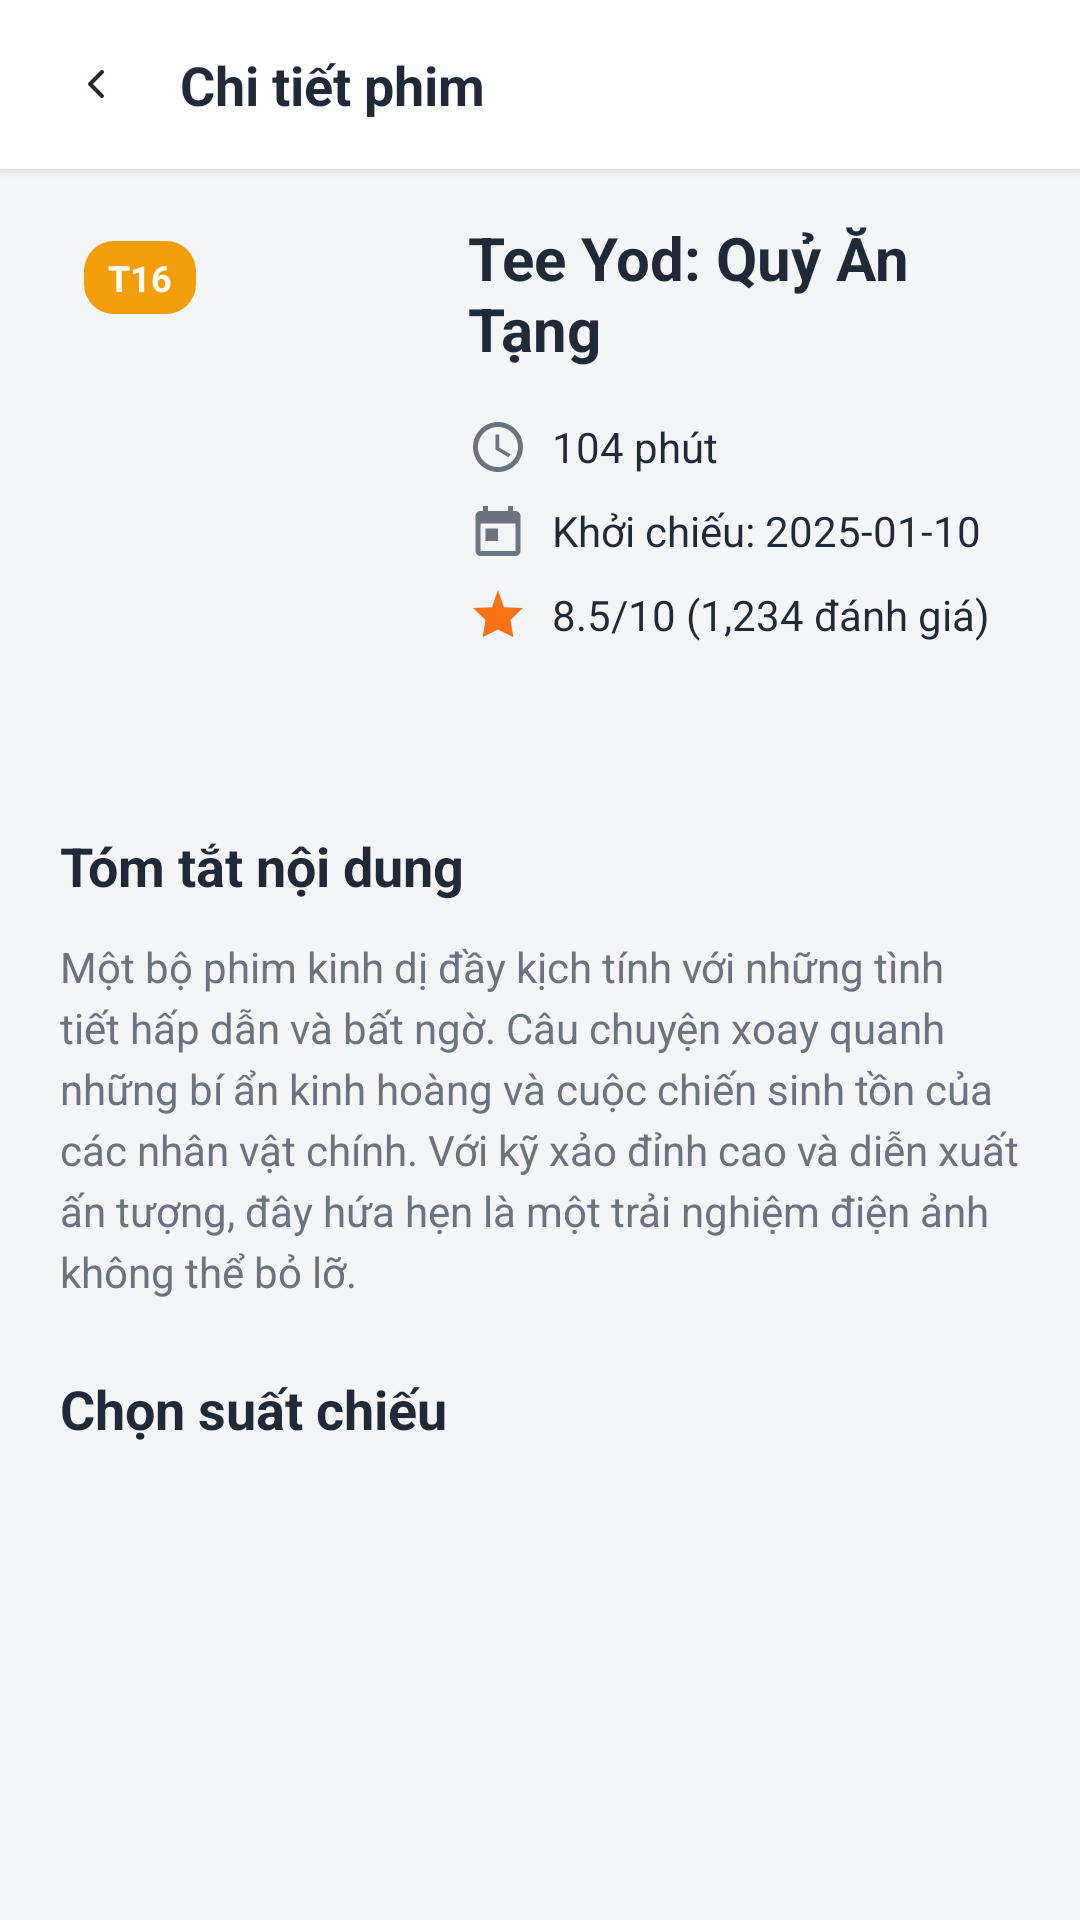

Where icons sit on this 1080 x 1920 app screen, as rect(x1, y1, x2, y2):
Back: rect(88, 70, 104, 98)
calendar: rect(475, 506, 521, 556)
clock: rect(473, 422, 523, 472)
star: rect(473, 590, 523, 637)
